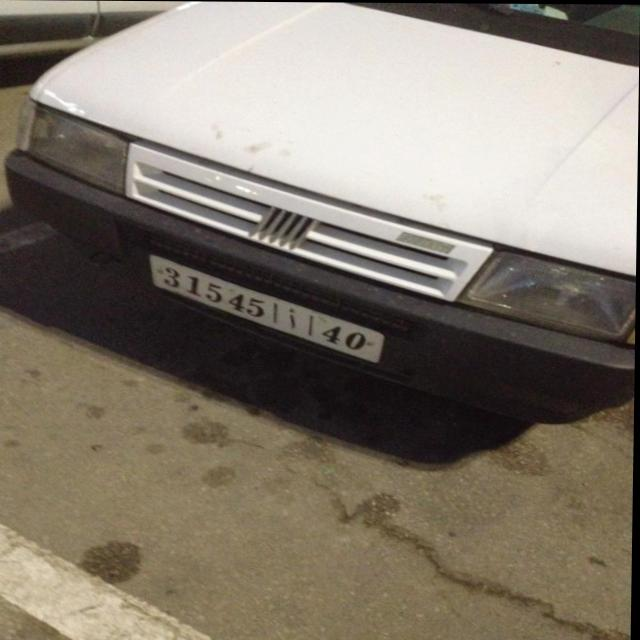License-Plate: (150, 255, 386, 362)
